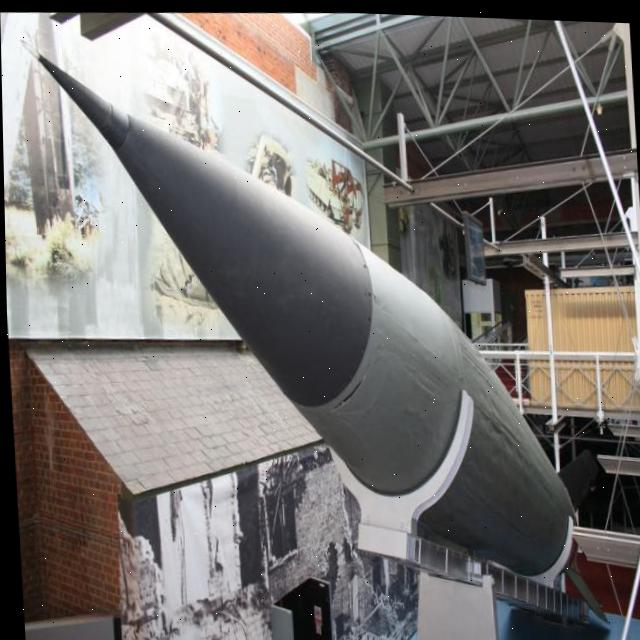missile: (35, 30, 640, 605)
